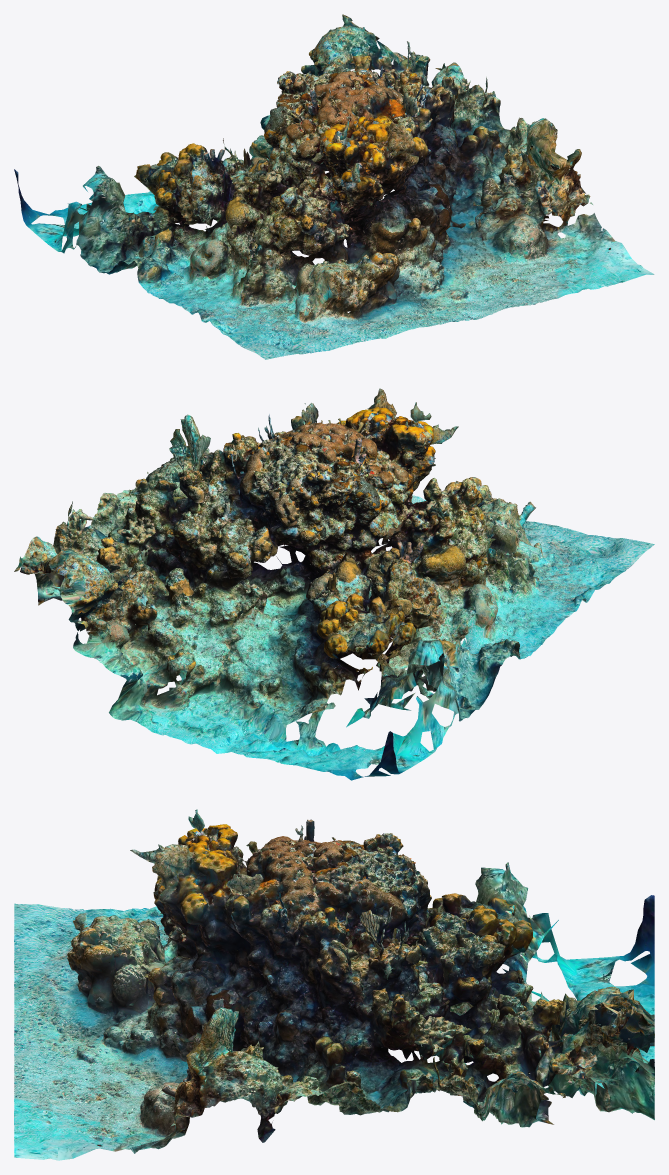
Rendered from candidate-reef.glb.
3 renders of one model, top to bottom at view 1: azimuth 30°, elevation 25°; view 2: azimuth 150°, elevation 25°; view 3: azimuth 270°, elevation 25°, orthographic. The views are drawn at different scales.
Visible parts, largest first — view 1: DefaultName__0; view 2: DefaultName__0; view 3: DefaultName__0.
Part boxes in pixels (x1,y1,x2,y2): DefaultName__0: (14,14,654,359); DefaultName__0: (14,388,654,780); DefaultName__0: (14,809,654,1160).
Size of the model in its own units: 1.79 by 0.9106 by 2.
16 materials, 16 textured.
